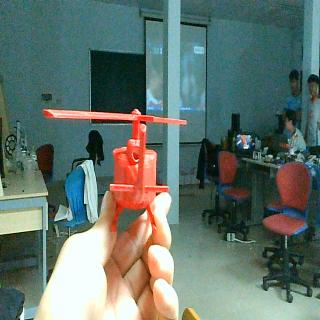Helicopter: (43, 105, 187, 234)
